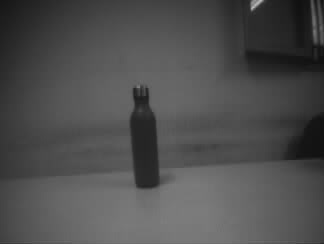Bottle: (130, 84, 161, 188)
